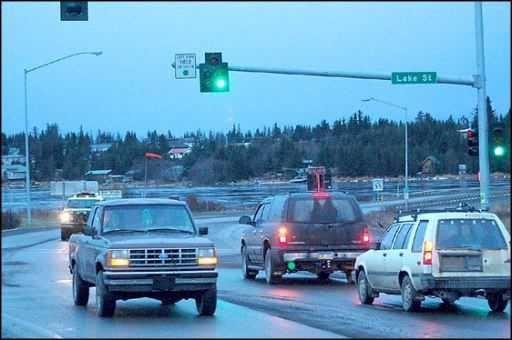green: (195, 49, 231, 96)
